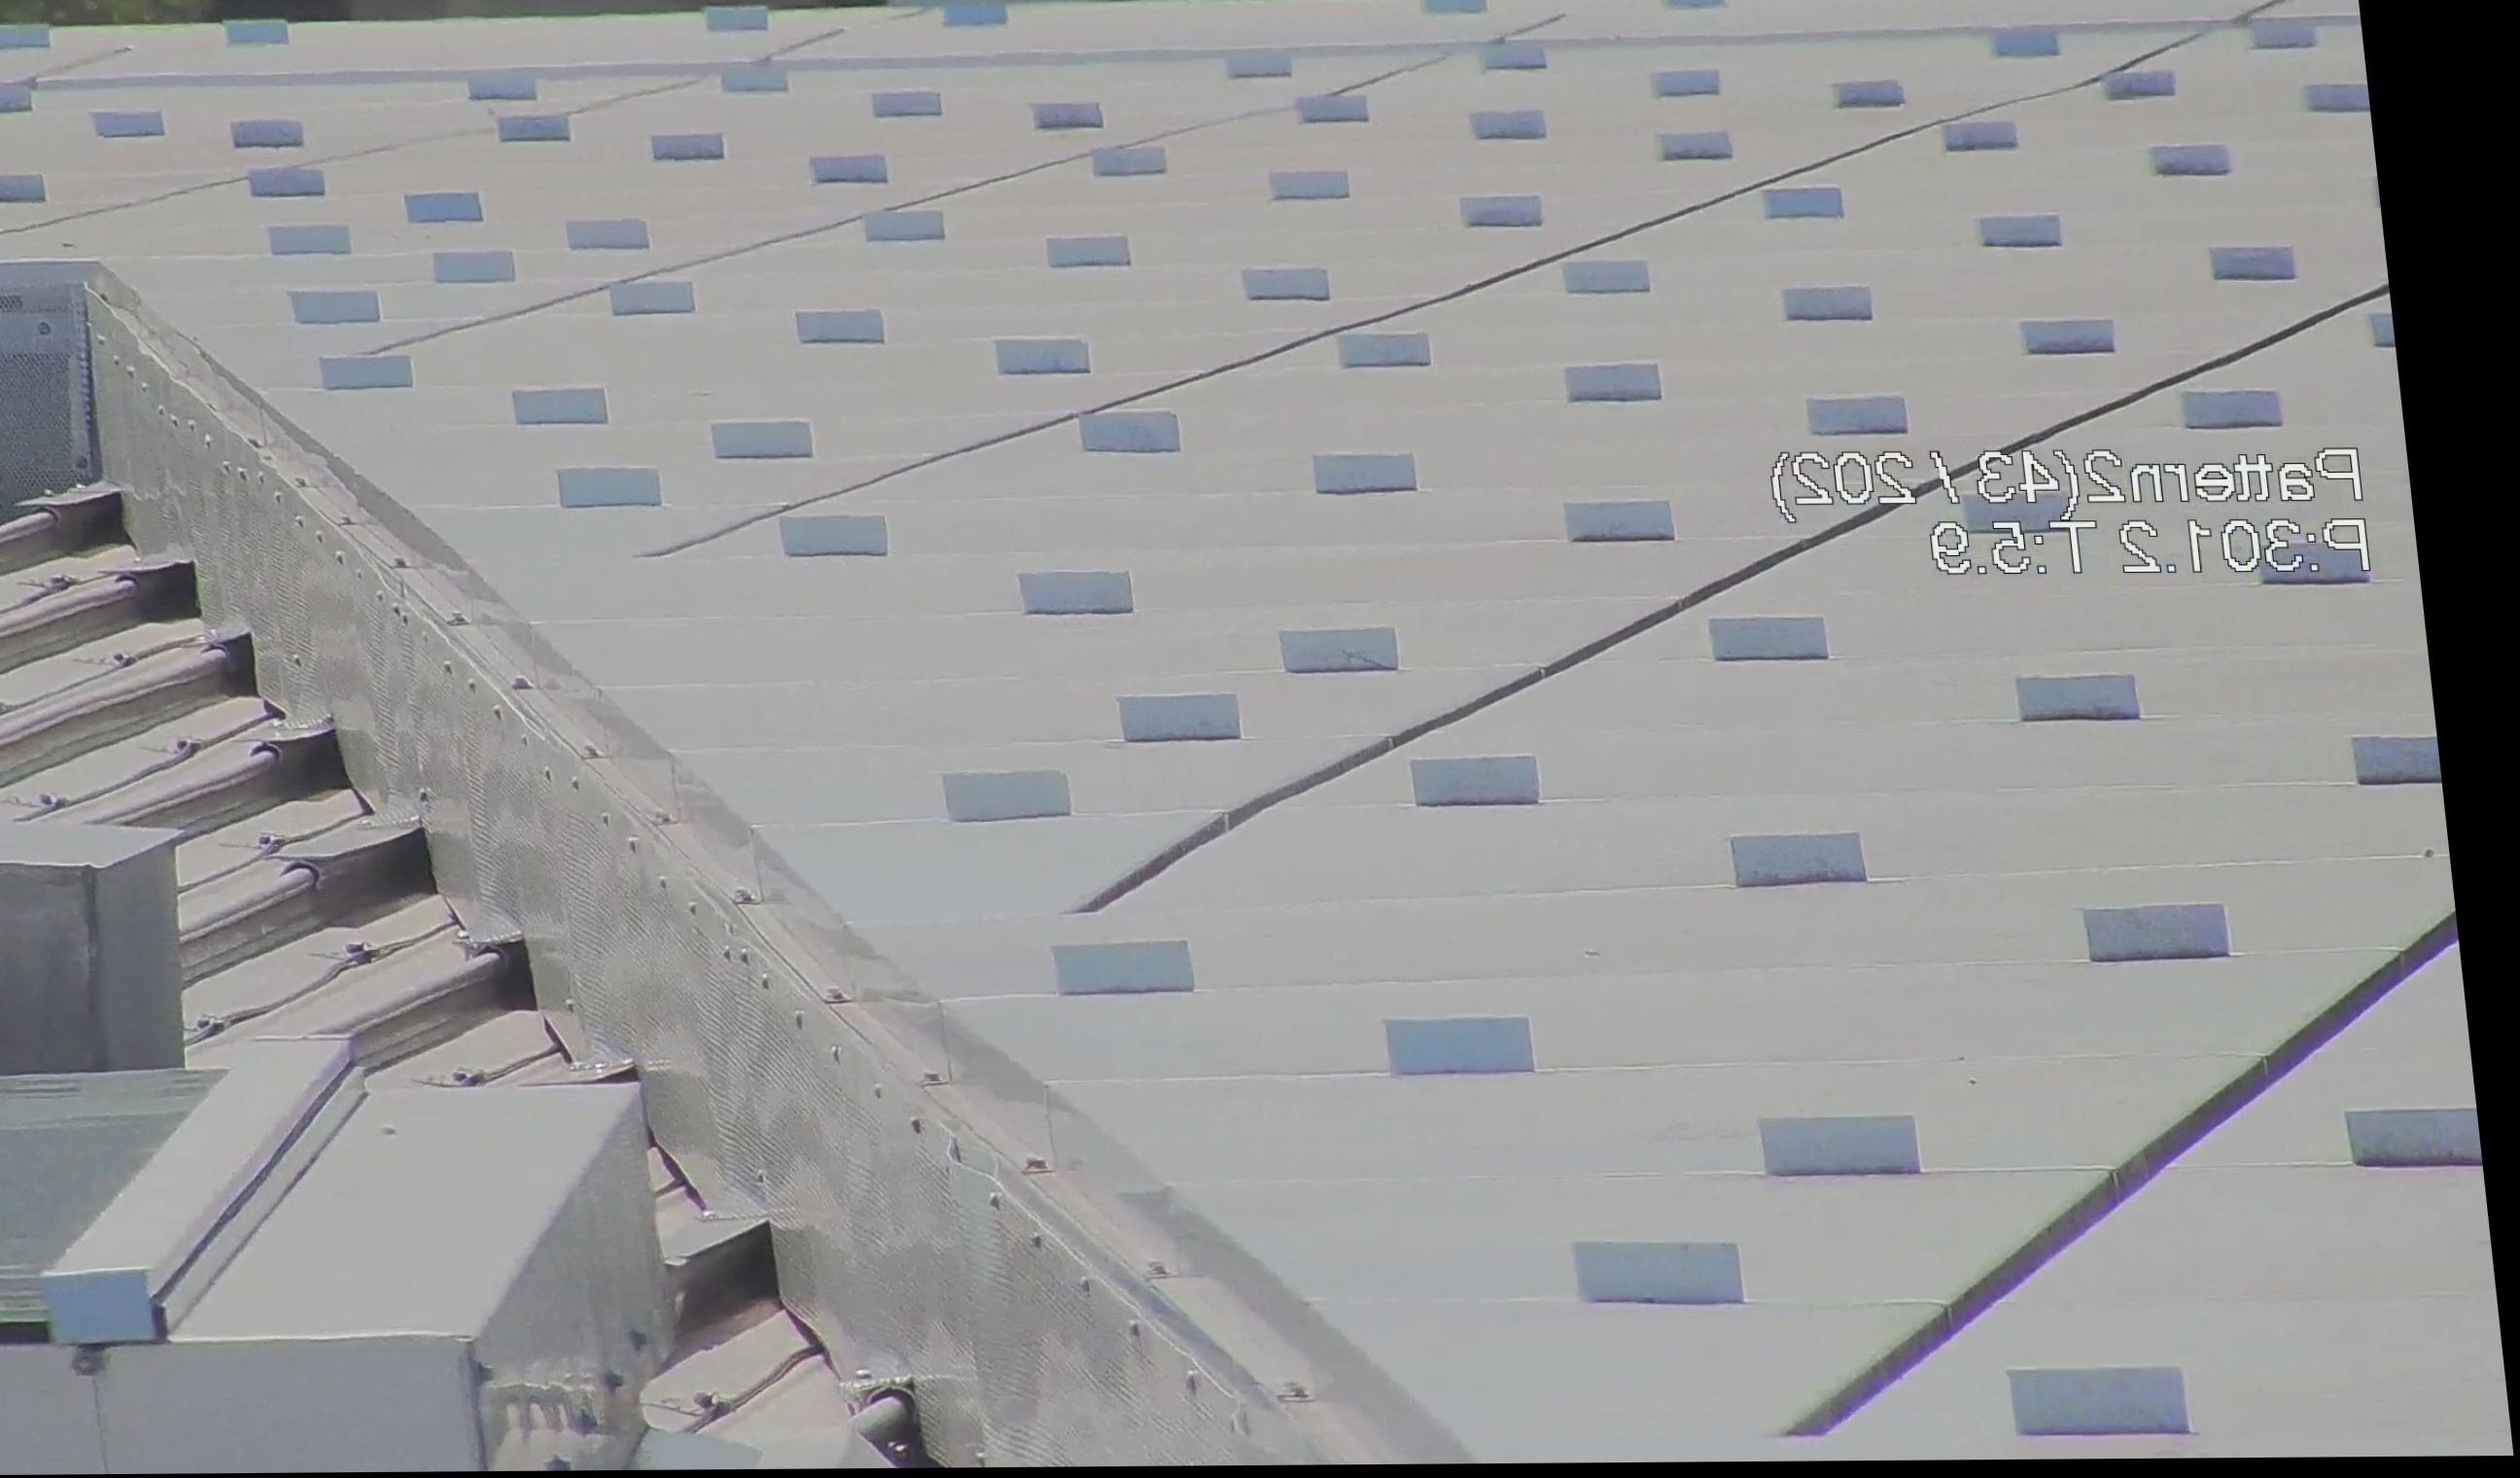Other: (807, 1355, 988, 1478)
